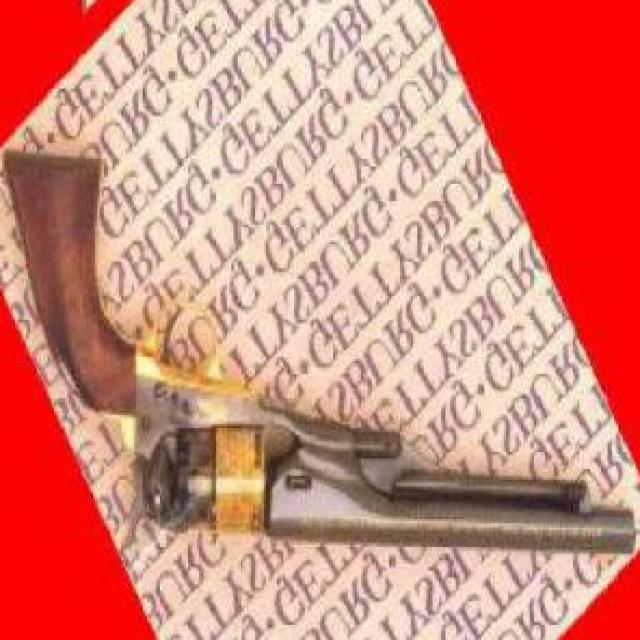pistol: (0, 149, 634, 582)
